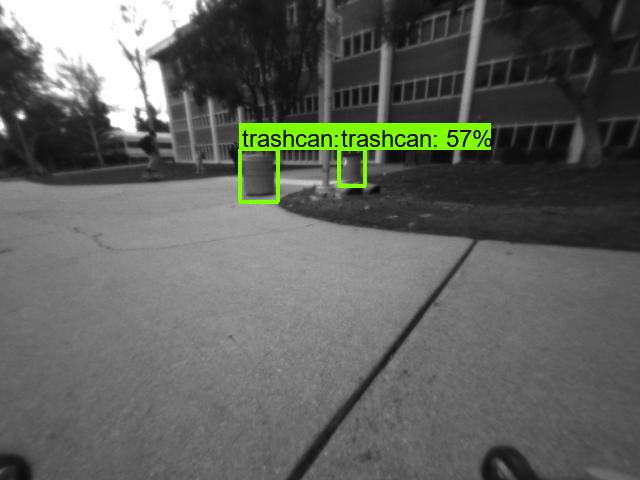trashcan: (241, 156, 279, 197), (340, 149, 364, 179)
